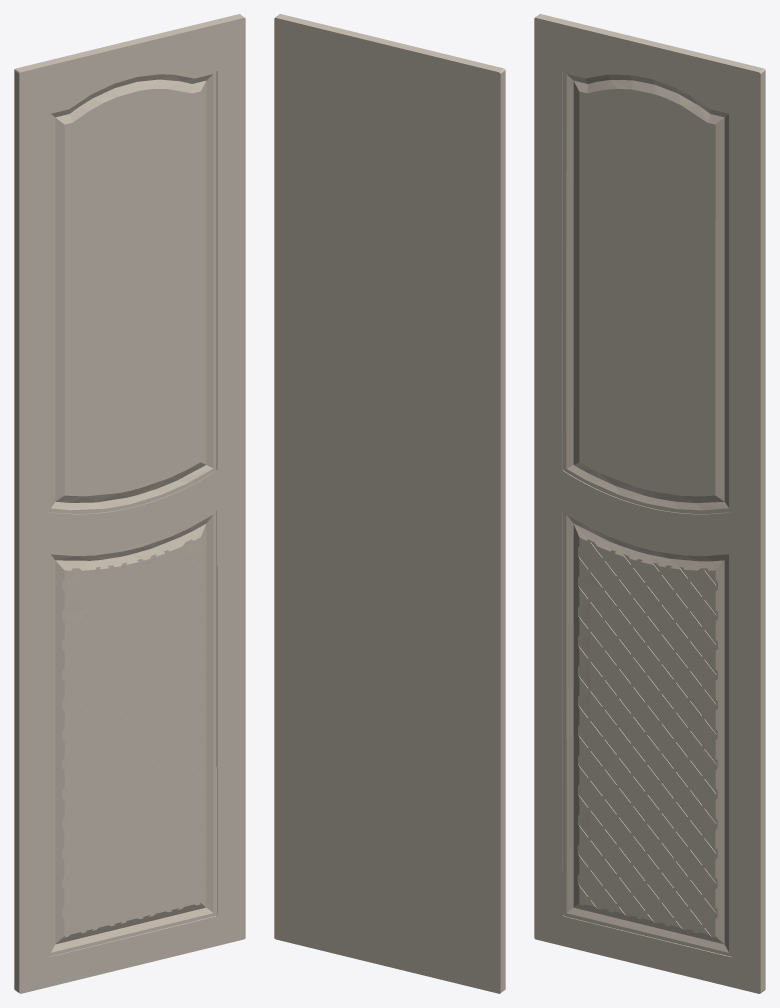
Rendered from NRD BOY KPK 05.glb.
3 renders of one model, left to right at view 1: azimuth 30°, elevation 25°; view 2: azimuth 150°, elevation 25°; view 3: azimuth 330°, elevation 25°, orthographic.
Parts seen in each view (by area): view 1: NRD BOY KPK 05; view 2: NRD BOY KPK 05; view 3: NRD BOY KPK 05.
Part boxes in pixels (x1,y1,x2,y2): NRD BOY KPK 05: (14, 14, 245, 993); NRD BOY KPK 05: (274, 14, 505, 993); NRD BOY KPK 05: (534, 14, 765, 993).
Size of the model in its own units: 0.4499 by 1.75 by 0.018.
